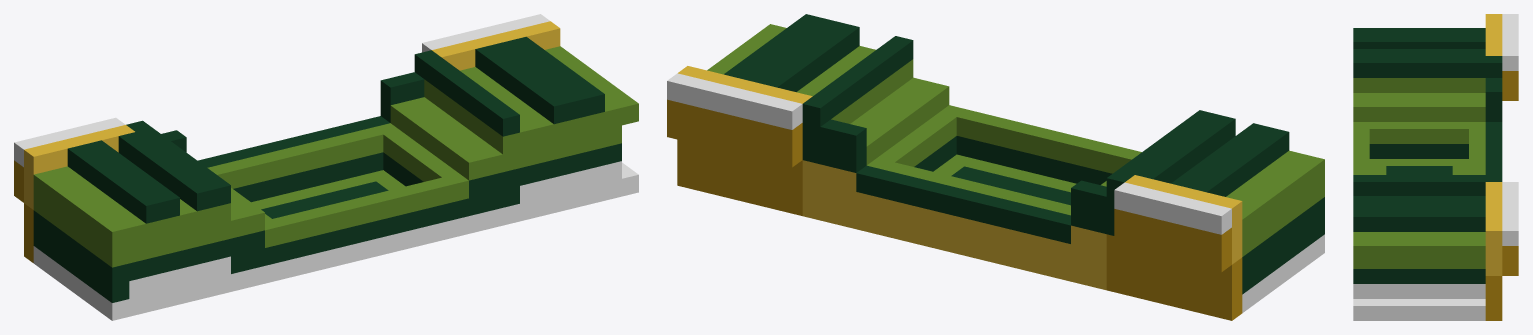
File: Dump.gltf
3 renders of one model, left to right at view 1: azimuth 30°, elevation 25°; view 2: azimuth 150°, elevation 25°; view 3: azimuth 270°, elevation 25°, orthographic. The views are drawn at different scales.
Size of the model in its own units: 3.1 by 0.6 by 1.
1 material, 1 textured.
